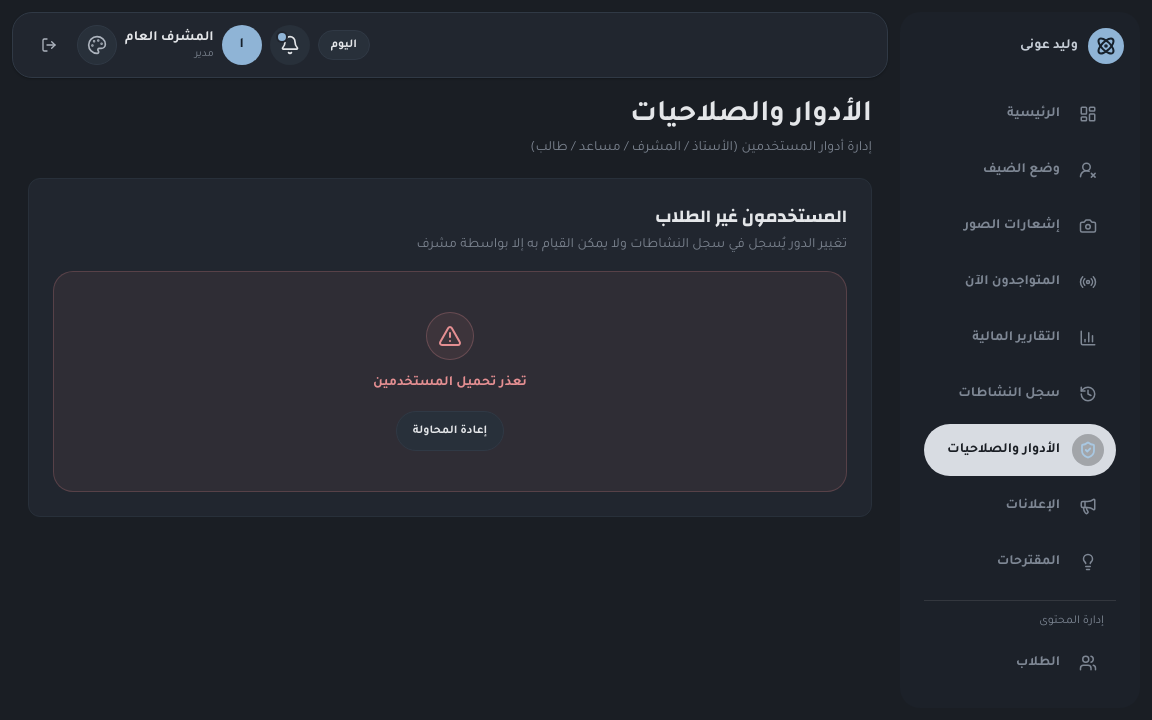
Test: RolesPage › shows an error state with retry when the user list fails to load
Check: the text "تعذر تحميل المستخدمين" is shown, box x1=373 y1=372 x2=527 y2=395
Click the button "إعادة المحاولة" at (450, 431), box x1=396 y1=411 x2=504 y2=451
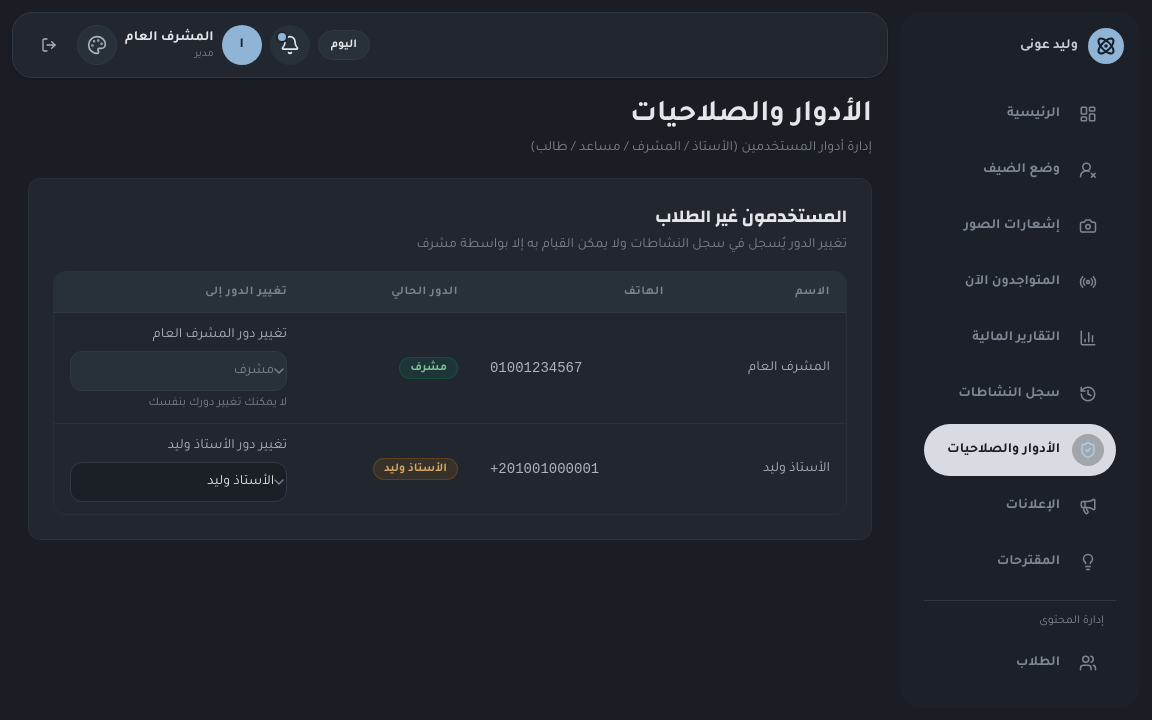
Check: the row with test id "role-row-user-walid-1" is shown, box x1=54 y1=424 x2=846 y2=514
